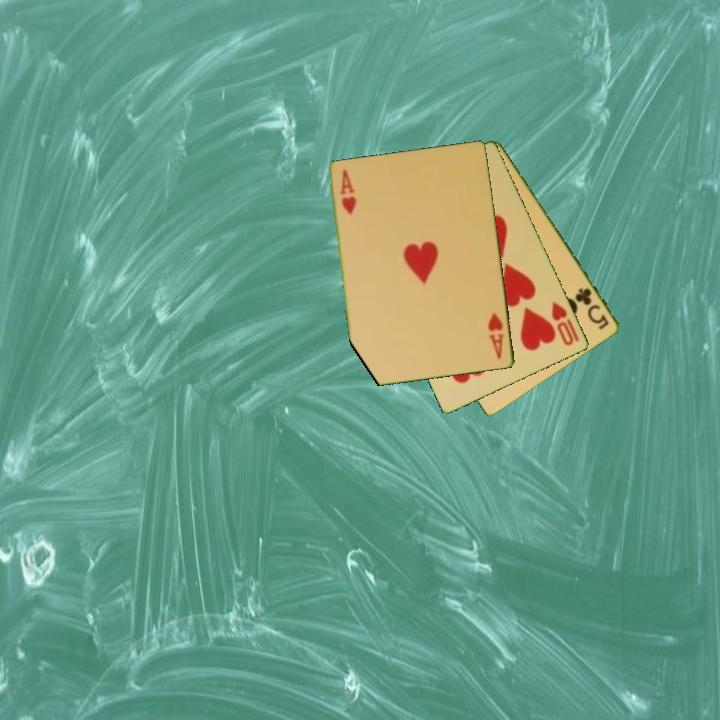10h: (548, 298, 582, 349)
5c: (572, 284, 612, 333)
Ah: (484, 309, 507, 362), (337, 166, 357, 218)
